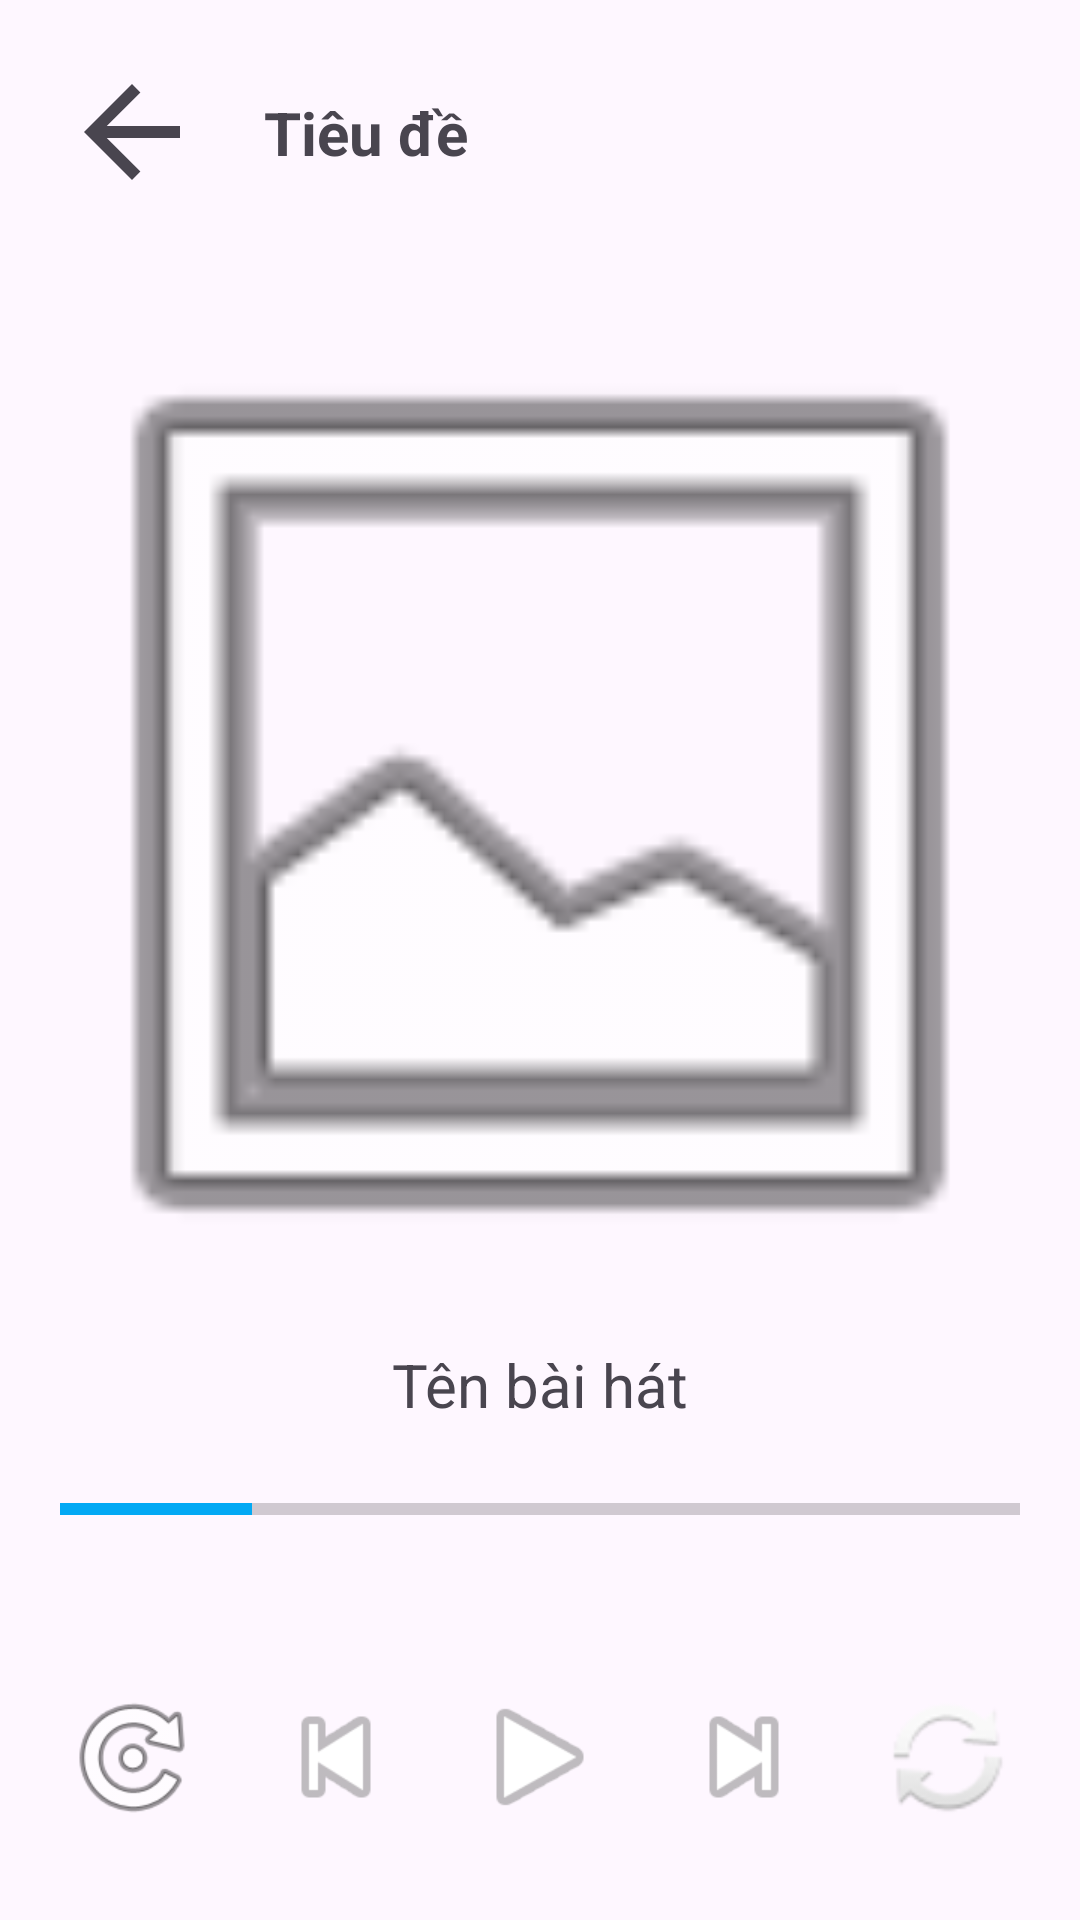

Icon click points for this 1080×1920 phone screenshot, format (x=x, y=y):
lui lại: (x=336, y=1757)
lặp lại: (x=947, y=1763)
phát: (x=540, y=1757)
tiến lên: (x=744, y=1757)
trở về: (x=132, y=132)
